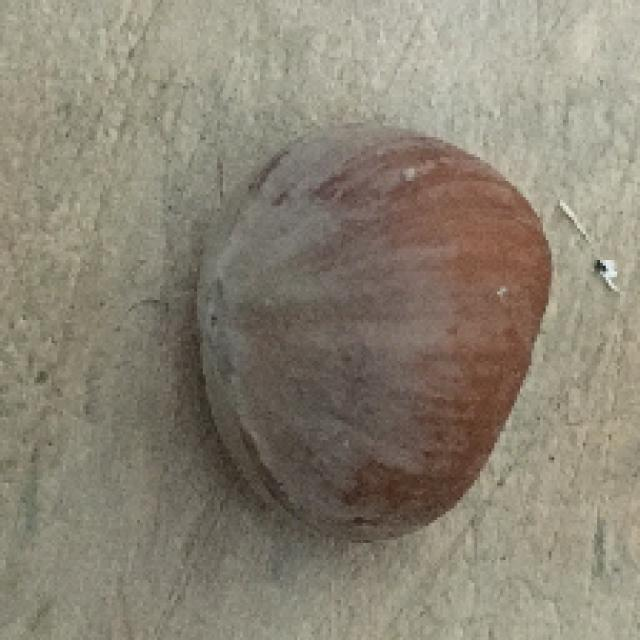qualityHazelnut: (189, 113, 551, 543)
